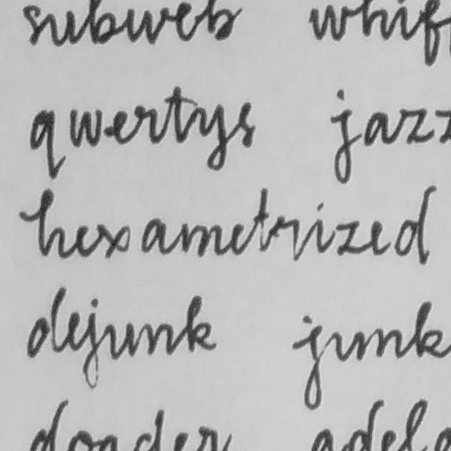a: (138, 215, 169, 257)
d: (391, 183, 439, 266)
e: (366, 217, 390, 258), (227, 220, 247, 257), (73, 222, 91, 259)
h: (34, 186, 69, 259)
i: (308, 200, 328, 256)
m: (177, 219, 225, 258)
r: (274, 212, 304, 263)
t: (249, 185, 274, 255)
x: (93, 220, 134, 262)
z: (331, 216, 362, 259)
